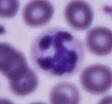N: (30, 28, 84, 76)
